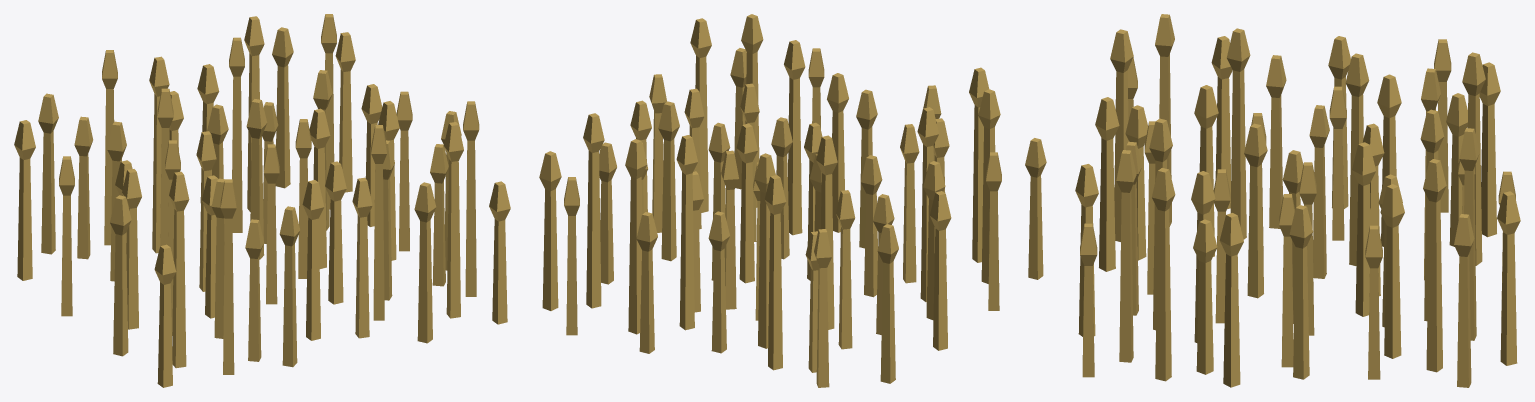
Rendered from crop-wheat.glb.
3 views of the same model, side by side, from view 1: azimuth 30°, elevation 25°; view 2: azimuth 150°, elevation 25°; view 3: azimuth 270°, elevation 25° (orthographic). The views are drawn at different scales.
Parts seen in each view (by area): view 1: crop-wheat; view 2: crop-wheat; view 3: crop-wheat.
Boxes of the visible parts, box(x1,y1,x2,y2) form: crop-wheat: box(14, 14, 510, 387); crop-wheat: box(539, 14, 1046, 387); crop-wheat: box(1075, 14, 1520, 387).
Bounding box in the file's own units: 0.8265 × 0.428 × 0.8317.
